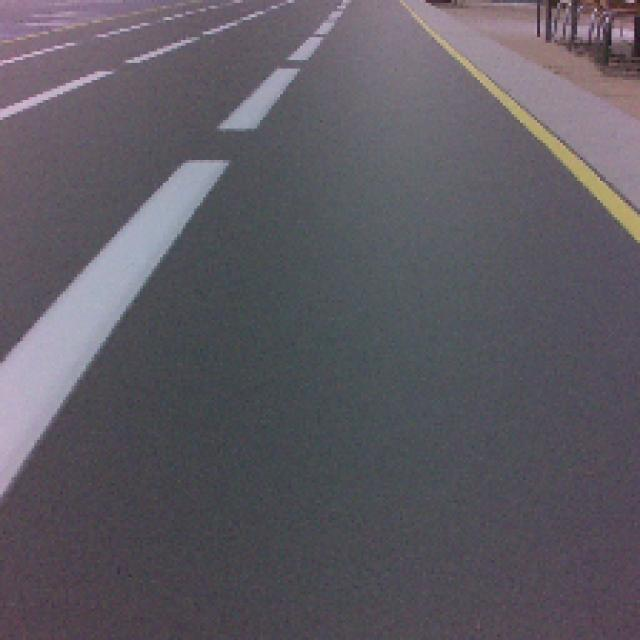Road: (0, 501, 638, 640)
